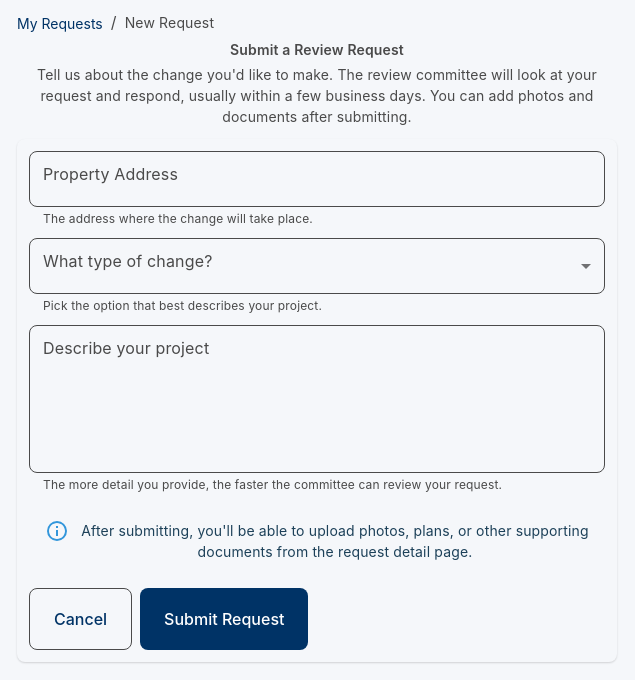
Scenario: ArcSubmitPage › renders category options with descriptions
Click the dropdown named "what type of change": (317, 266) x1=29 y1=238 x2=605 y2=294
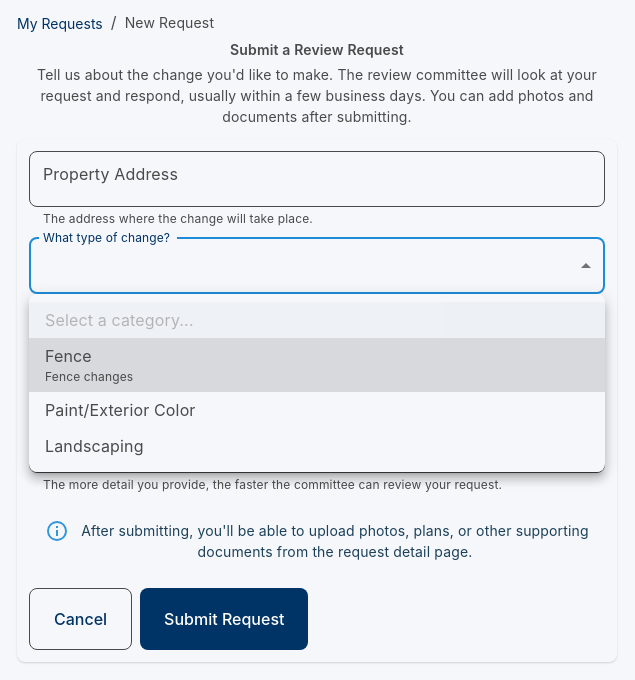
Now the text "Fence" is shown, box x1=45 y1=346 x2=92 y2=366
Now the text "Fence changes" is shown, box x1=45 y1=369 x2=133 y2=384
Now the text "Landscaping" is shown, box x1=45 y1=436 x2=144 y2=456
